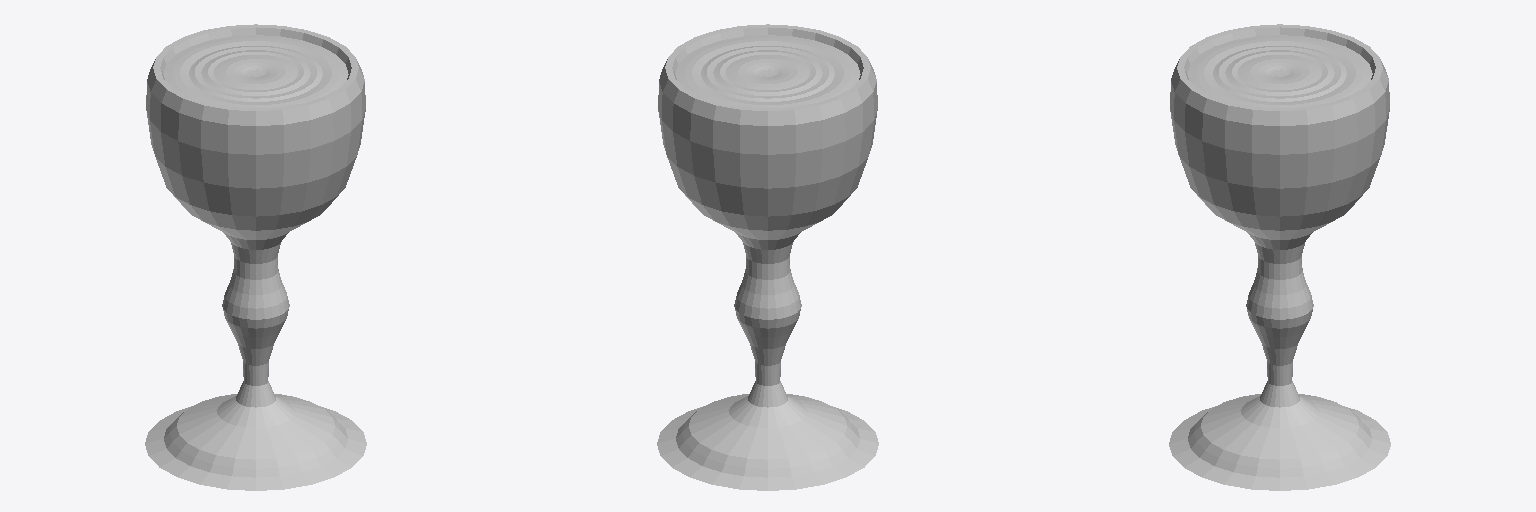
File: Goblet.obj
3 views of the same model, side by side, from view 1: azimuth 30°, elevation 25°; view 2: azimuth 150°, elevation 25°; view 3: azimuth 270°, elevation 25° (orthographic).
Parts seen in each view (by area): view 1: loftedSurface1; view 2: loftedSurface1; view 3: loftedSurface1.
Boxes of the visible parts, x1=… form: loftedSurface1: x1=145, y1=24, x2=366, y2=490; loftedSurface1: x1=657, y1=24, x2=878, y2=490; loftedSurface1: x1=1169, y1=24, x2=1390, y2=490.
Bounding box in the file's own units: 12 × 22.38 × 12.